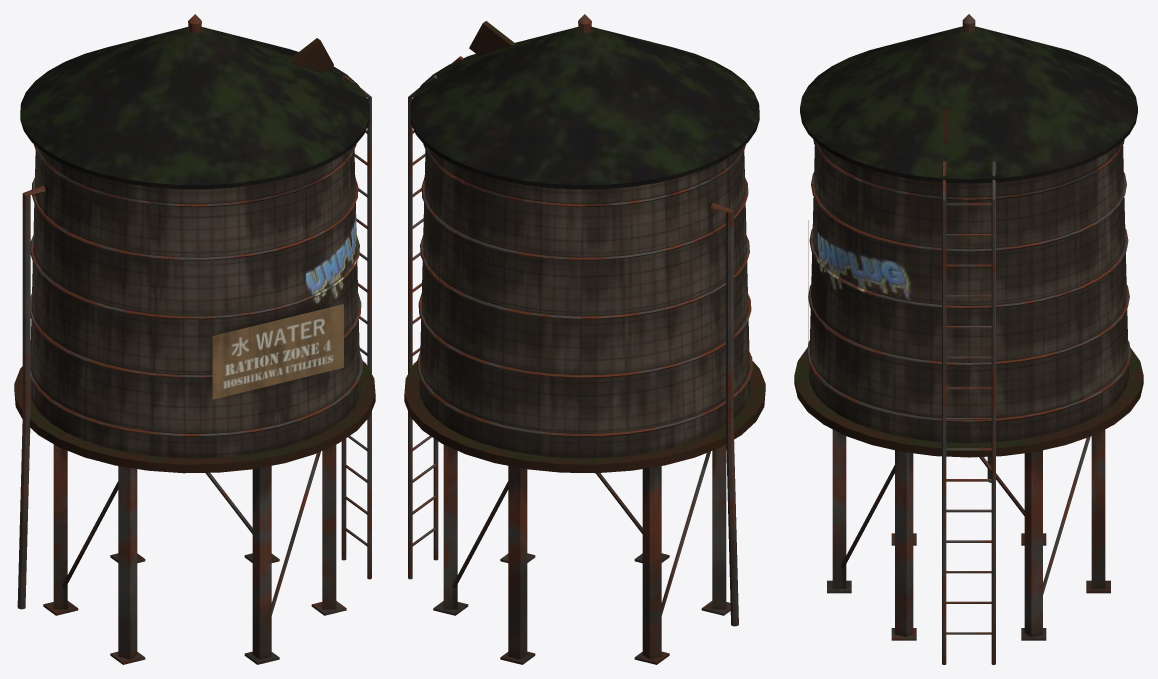
Rendered from water_tank.glb.
The picture shows the model from 3 angles, left to right: view 1: azimuth 30°, elevation 25°; view 2: azimuth 150°, elevation 25°; view 3: azimuth 270°, elevation 25°; orthographic projection. The views are drawn at different scales.
Visible parts, largest first — view 1: water_tank; view 2: water_tank; view 3: water_tank.
Part boxes in pixels (<box>): water_tank: <box>14,14,375,664</box>; water_tank: <box>404,14,765,664</box>; water_tank: <box>794,14,1143,664</box>.
Size of what is drawn, in the model's own units: 3.25 by 5.62 by 3.1.
1 material, 1 textured.
